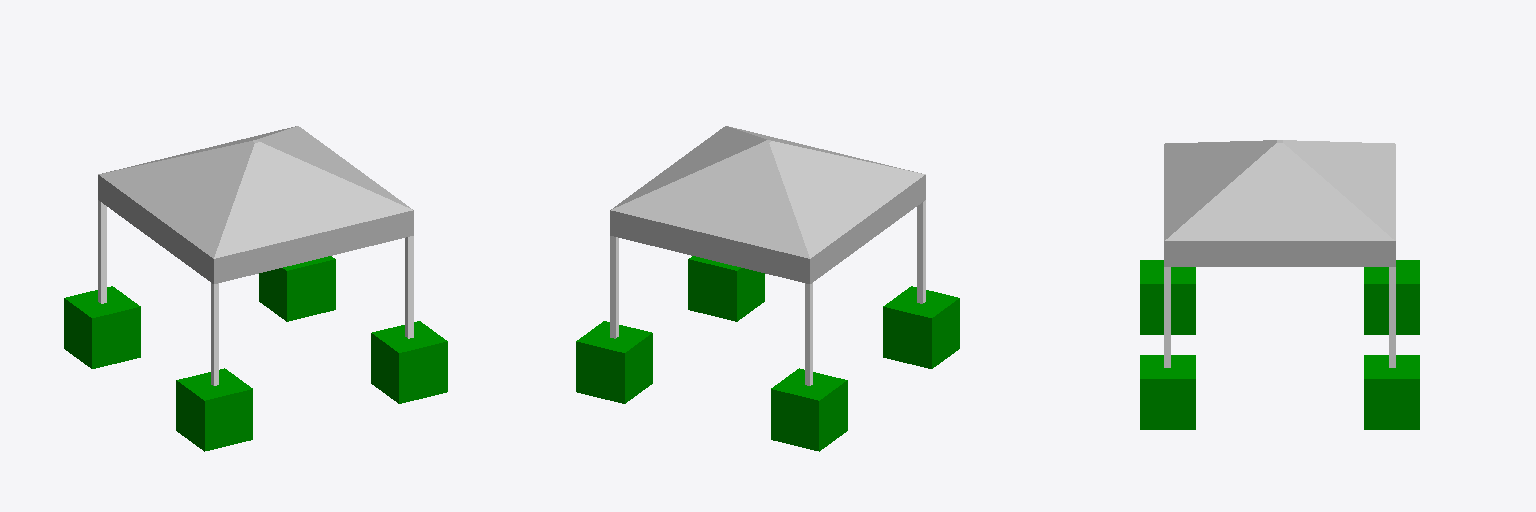
The model's file is TeamTentWht4.obj.
3 views of the same model, side by side, from view 1: azimuth 30°, elevation 25°; view 2: azimuth 150°, elevation 25°; view 3: azimuth 270°, elevation 25° (orthographic).
Parts seen in each view (by area): view 1: Cube; view 2: Cube; view 3: Cube.
Part boxes in pixels (x1,y1,x2,y2): Cube: (64, 126, 447, 451); Cube: (576, 126, 959, 451); Cube: (1140, 140, 1419, 429).
Size of the model in its own units: 10 by 9 by 10.